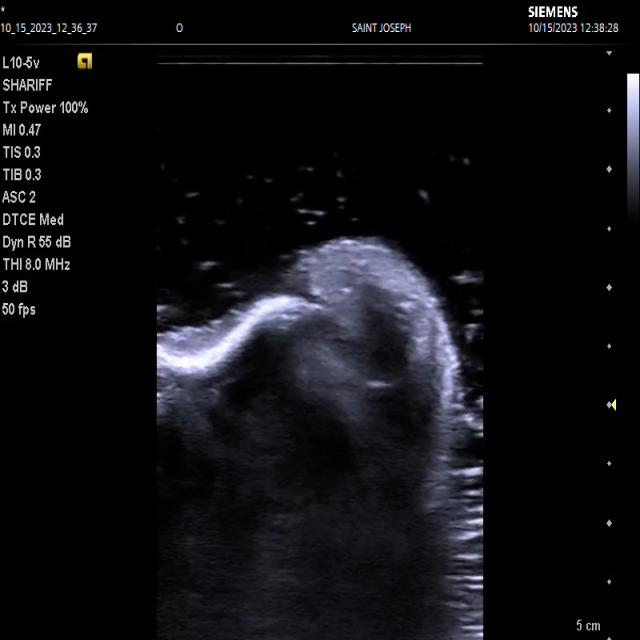tissue: (157, 239, 459, 640)
